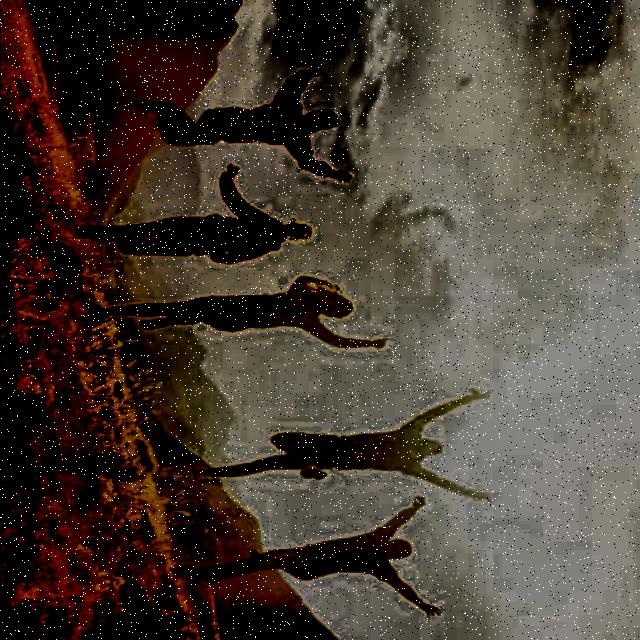happy: (367, 533, 422, 569), (294, 104, 347, 140), (308, 288, 354, 326), (277, 219, 317, 249), (411, 434, 449, 464)
